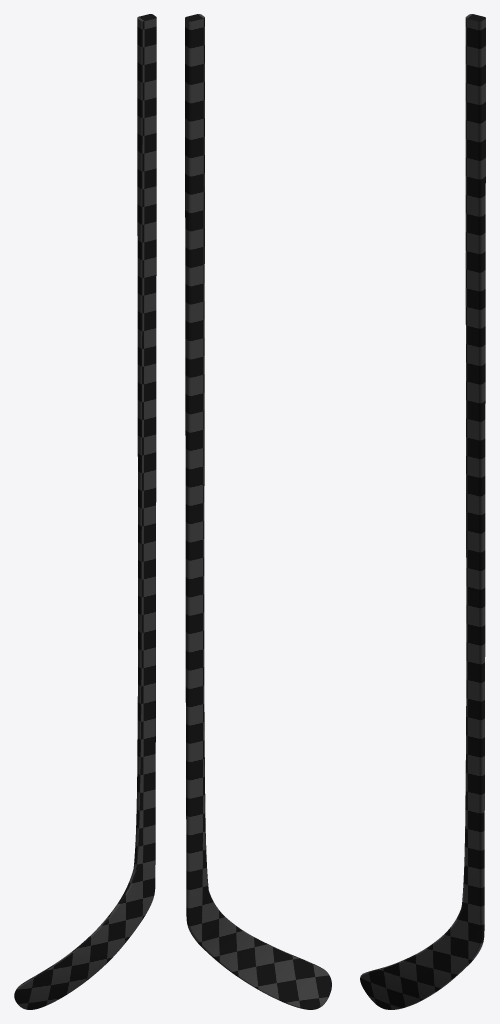
3 renders of one model, left to right at view 1: azimuth 30°, elevation 25°; view 2: azimuth 210°, elevation 25°; view 3: azimuth 330°, elevation 25°, orthographic. The views are drawn at different scales.
Visible parts, largest first — view 1: geometry_0; view 2: geometry_0; view 3: geometry_0.
Part boxes in pixels (bbox=[...]): geometry_0: bbox=[14, 14, 156, 1009]; geometry_0: bbox=[185, 14, 331, 1009]; geometry_0: bbox=[360, 14, 485, 1009].
Bounding box in the file's own units: 227 × 1650 × 53.59.
Materials: 1 (1 with a texture image).
